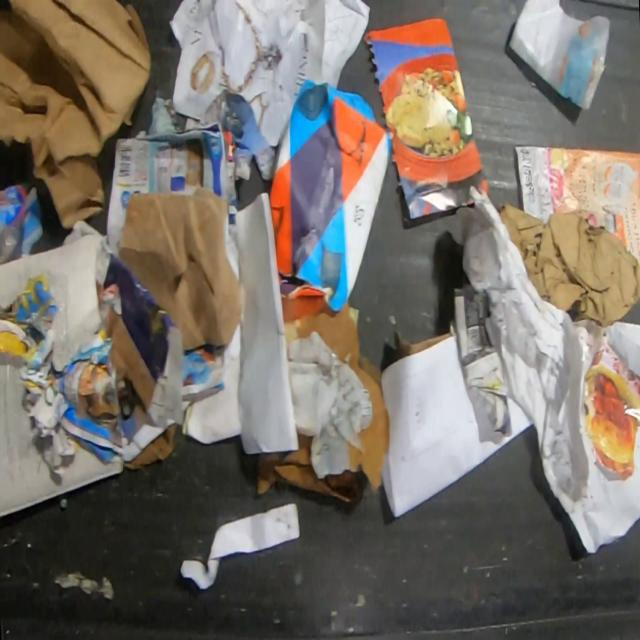cardboard: (118, 185, 247, 353), (393, 330, 453, 360)
soft_plastic: (0, 178, 43, 265)
